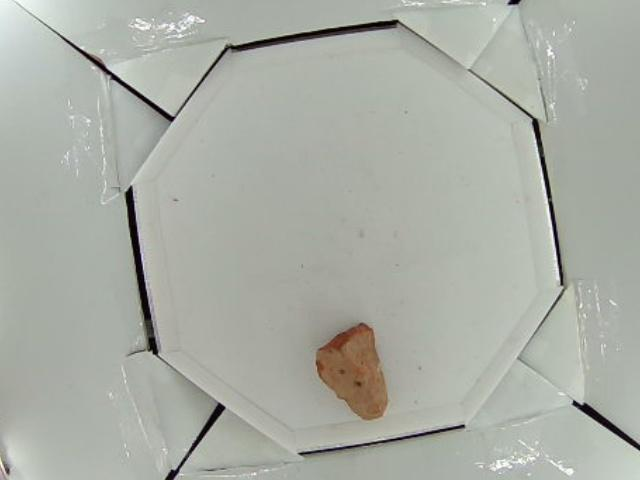Brisk: (315, 322, 388, 422)
